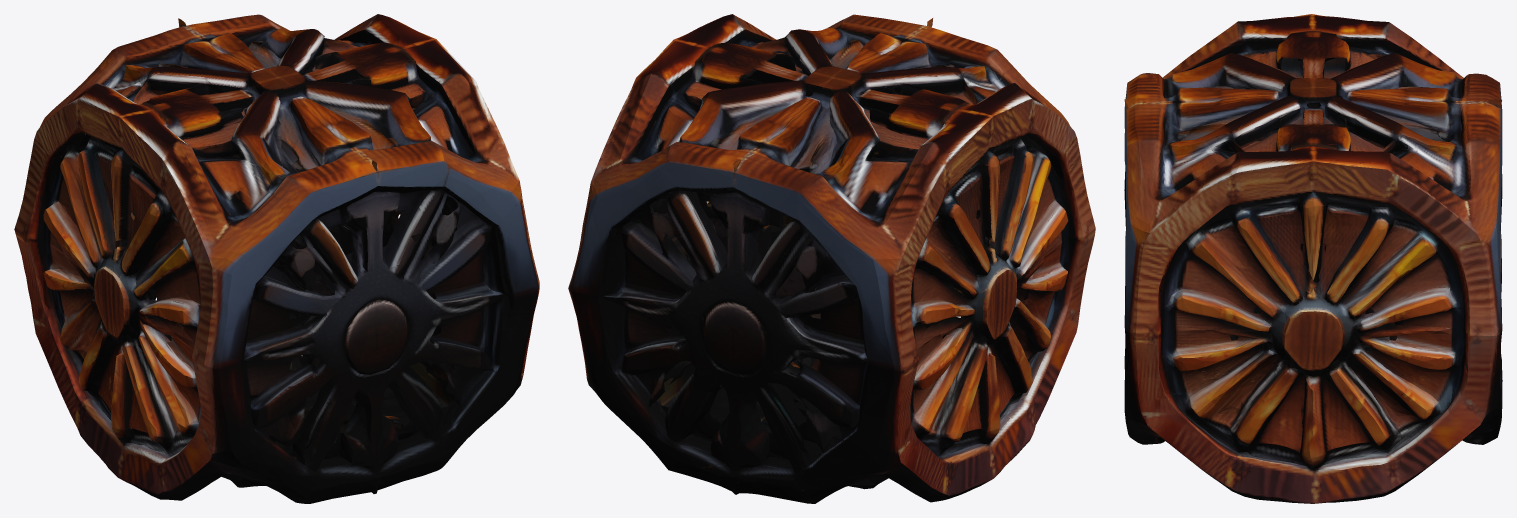
Rendered from wooden-ring-art-deco.jpeg.glb.
The picture shows the model from 3 angles, left to right: view 1: azimuth 30°, elevation 25°; view 2: azimuth 150°, elevation 25°; view 3: azimuth 270°, elevation 25°; orthographic projection. The views are drawn at different scales.
Parts seen in each view (by area): view 1: world; view 2: world; view 3: world.
Boxes of the visible parts, x1,y1,x2,y2 form: world: (14, 14, 539, 503); world: (568, 14, 1095, 503); world: (1124, 14, 1502, 503).
Size of the model in its own units: 0.9831 by 1 by 1.
Materials: 1 (1 with a texture image).
